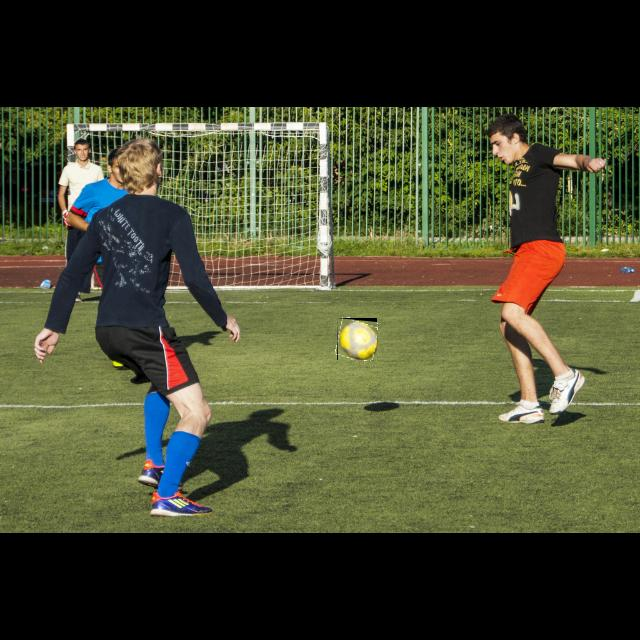Football: (337, 318, 377, 360)
